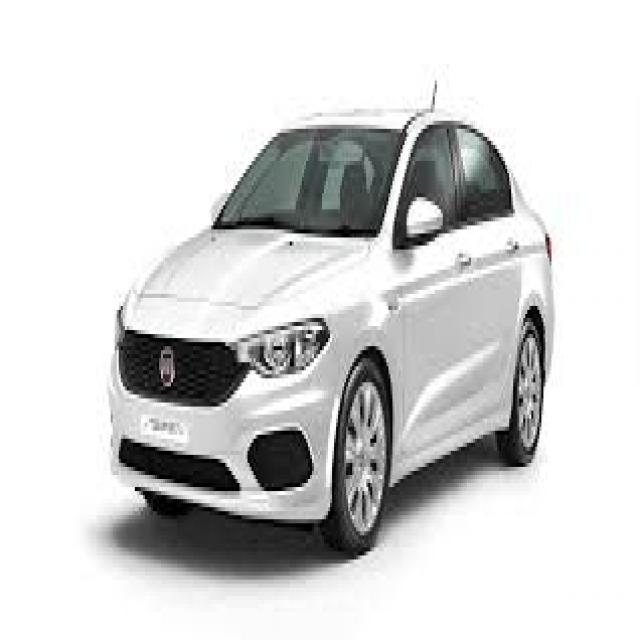Car: (104, 99, 557, 566)
